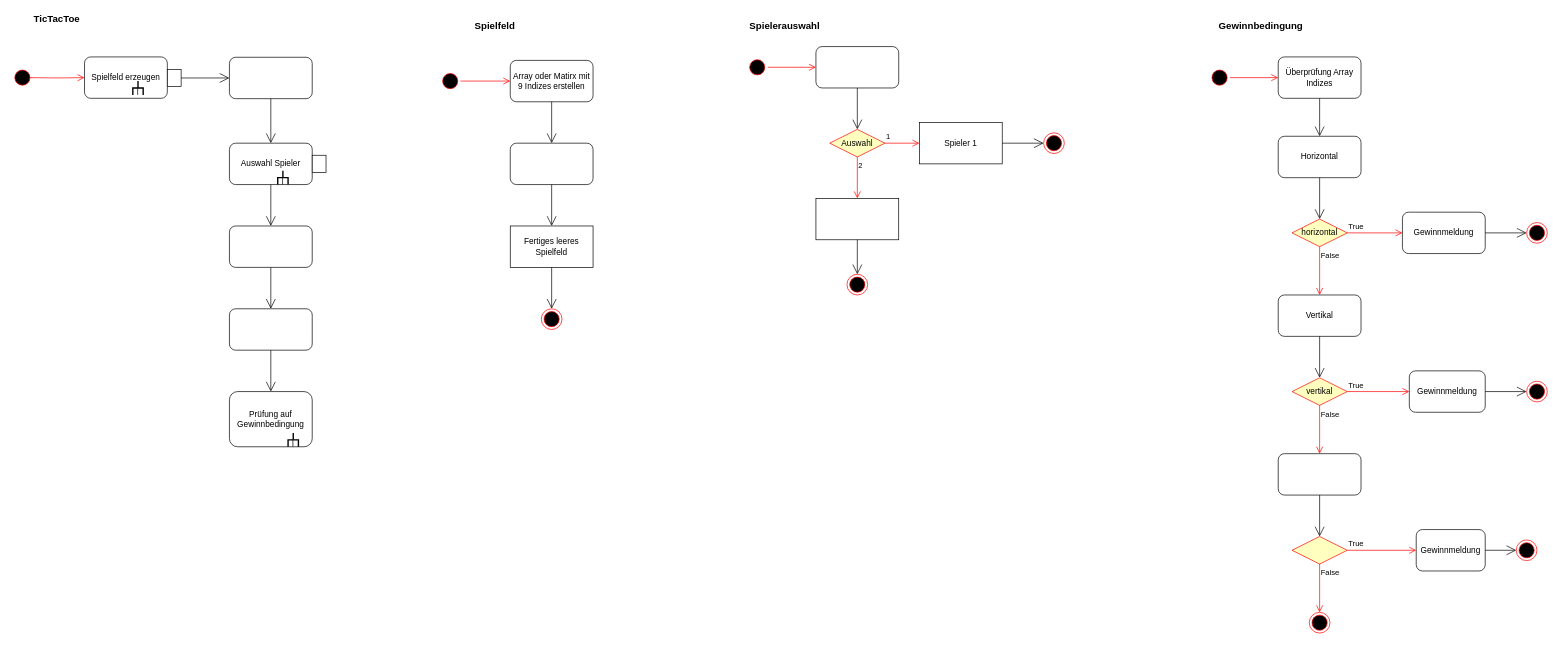
Image size: 1559x645. Some labels were removed from this diagram. Here are the shapes that lost their labels. From the top down, the centre of each, then its label:
the point at 270,78: Ausgabe Spielfeld
the point at 857,67: Konsoleneingabe 1 || 2
the point at 551,163: Anordnung des Felds
the point at 857,219: Spieler 2
the point at 270,246: Zugaufforderung des entsprechenden Spielers
the point at 270,329: Tätigung Spielzug
the point at 1319,474: Diagonal
the point at 1319,550: Condition
